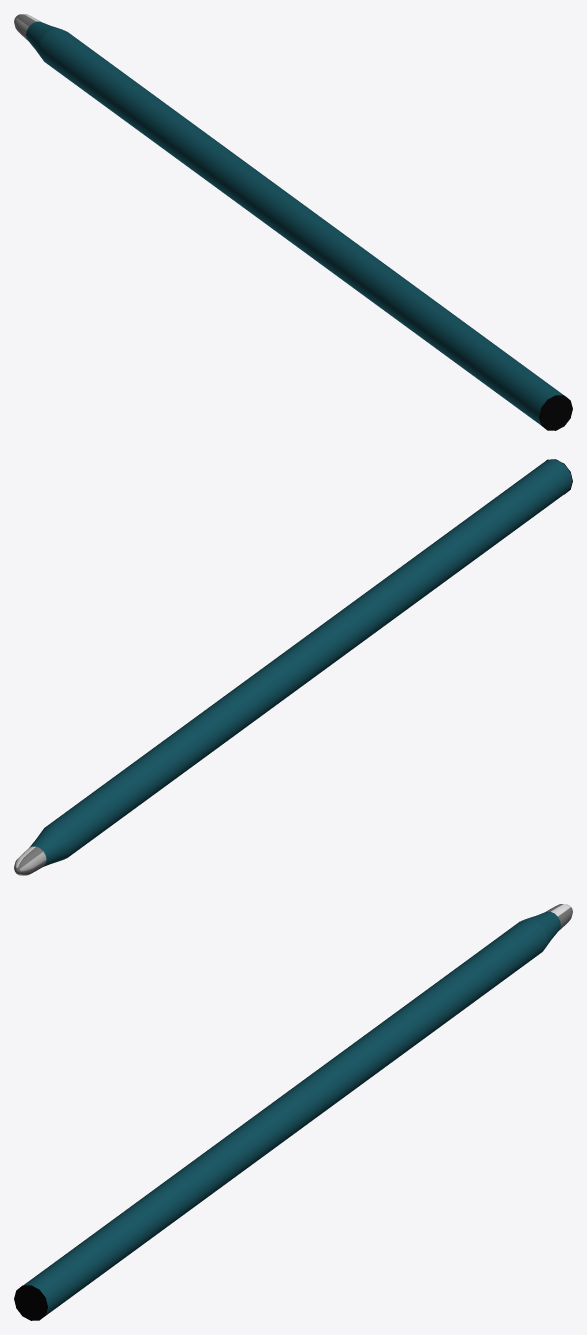
File: hydra70.glb
3 views of the same model, one above another, from view 1: azimuth 30°, elevation 25°; view 2: azimuth 150°, elevation 25°; view 3: azimuth 330°, elevation 25° (orthographic).
Visible parts, largest first — view 1: hydra70__geo; view 2: hydra70__geo; view 3: hydra70__geo.
Part boxes in pixels (x1,y1,x2,y2): hydra70__geo: (14,14,572,430); hydra70__geo: (14,459,572,875); hydra70__geo: (14,904,572,1320).
Size of the model in its own units: 0.0644 by 0.0644 by 1.76.
